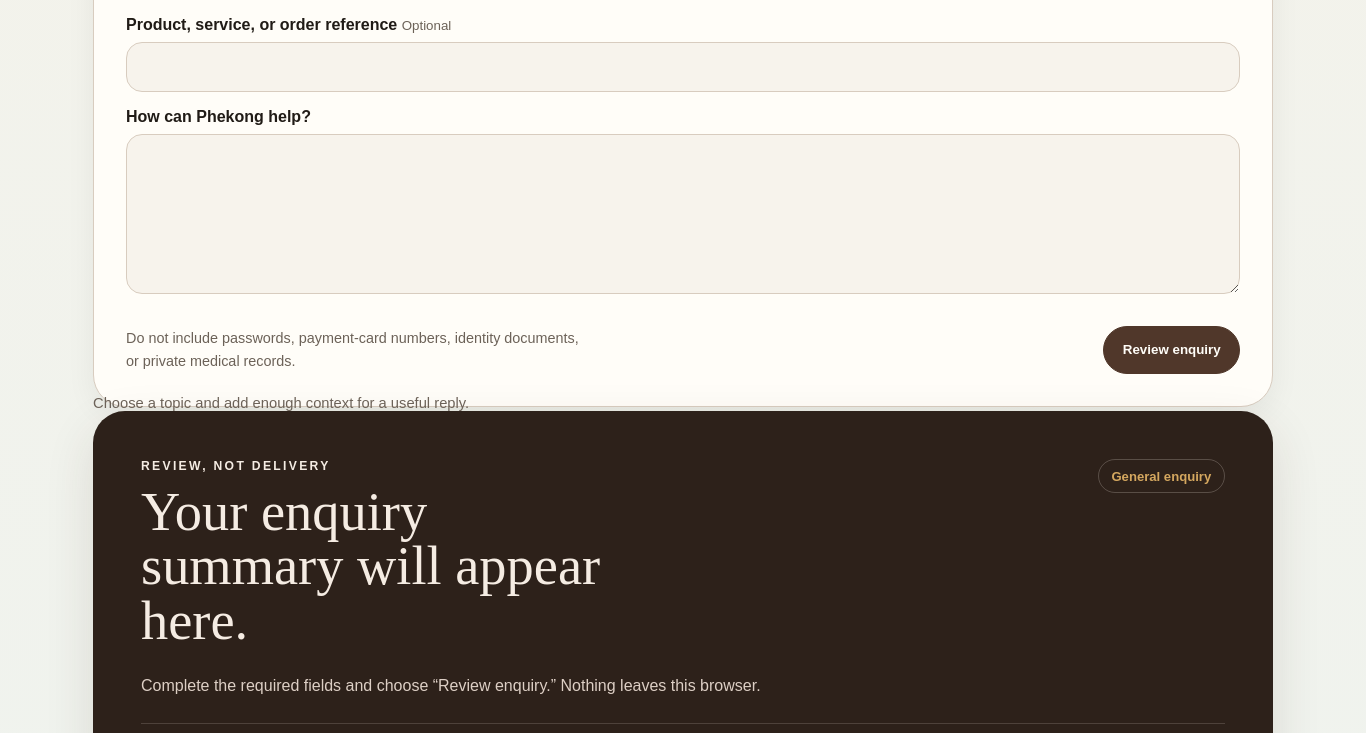
ContactScreen › validates required context before preparing a review
(page scrolled)
Click the button "Review enquiry": (1172, 350) [1103, 326, 1240, 374]
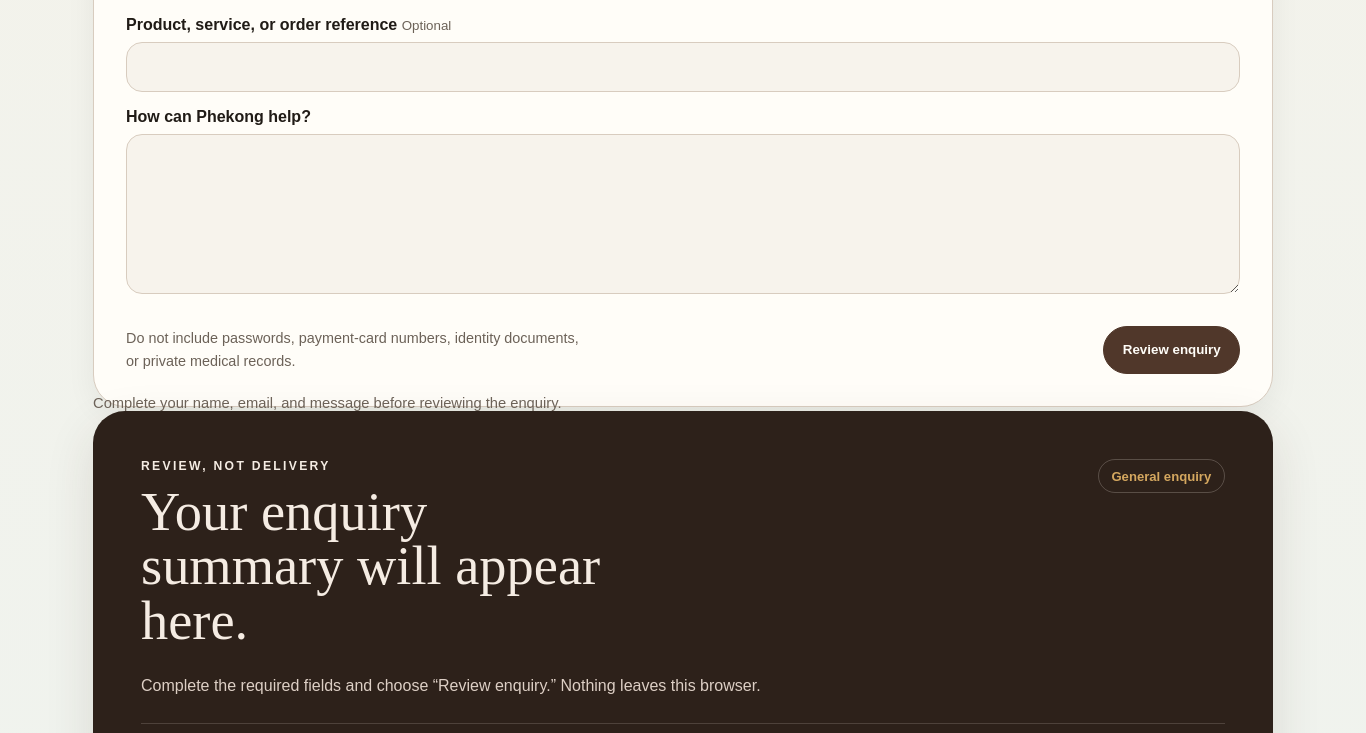
Expected: the message shows "Complete your name, email, and message", [93, 395, 562, 411]
